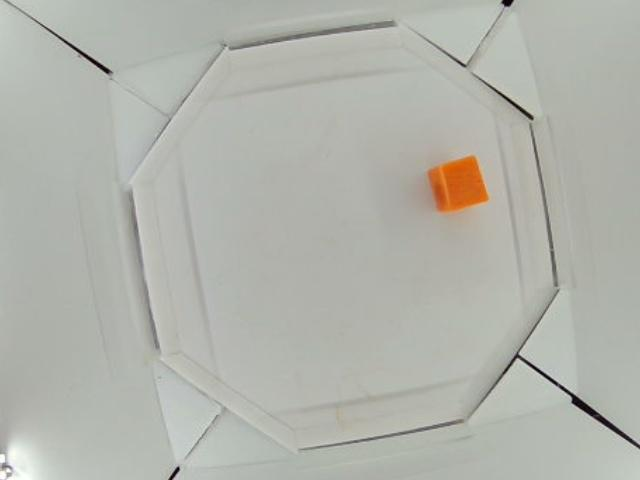Carrot: (430, 155, 489, 213)
